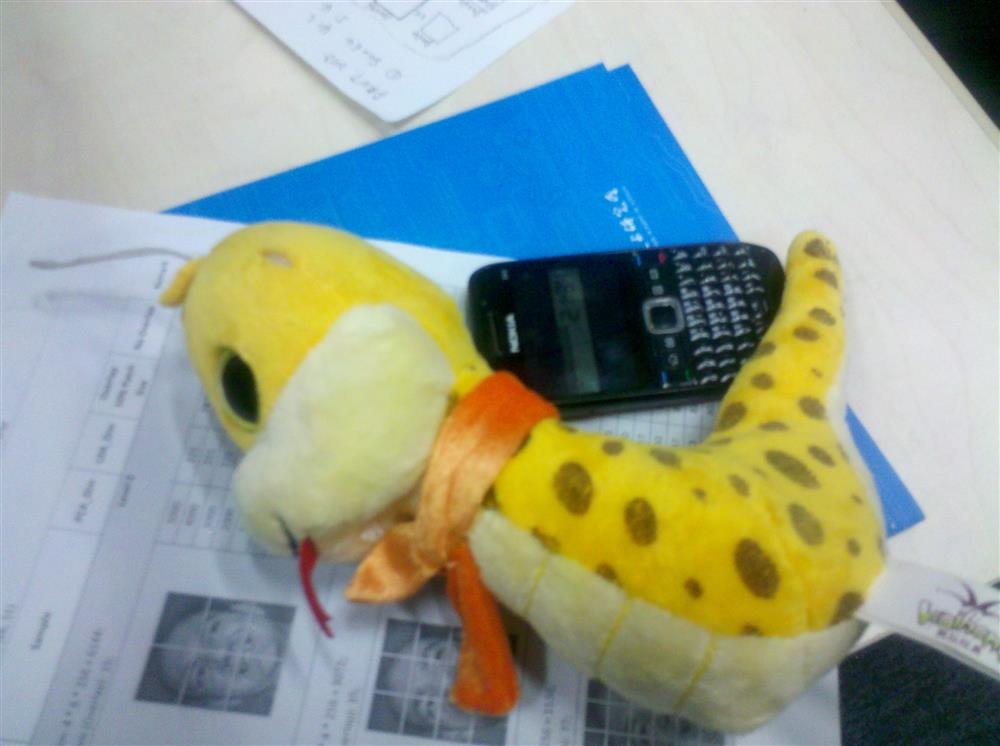toy_snake: (178, 218, 879, 730)
